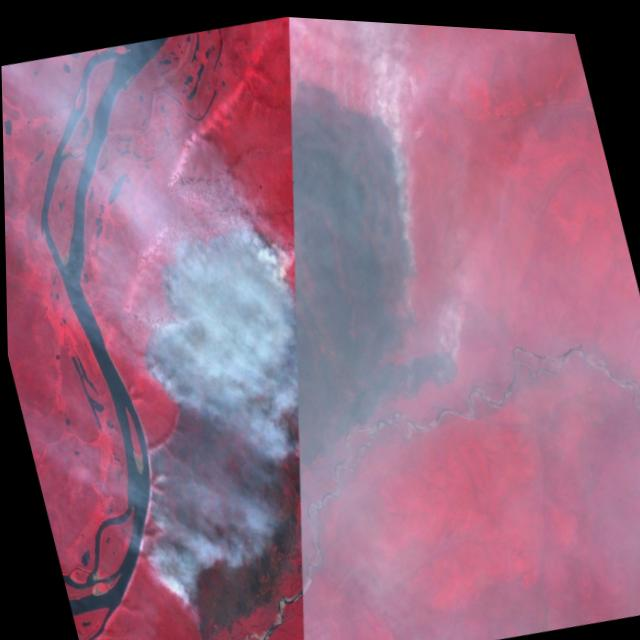fire: (32, 32, 530, 640)
